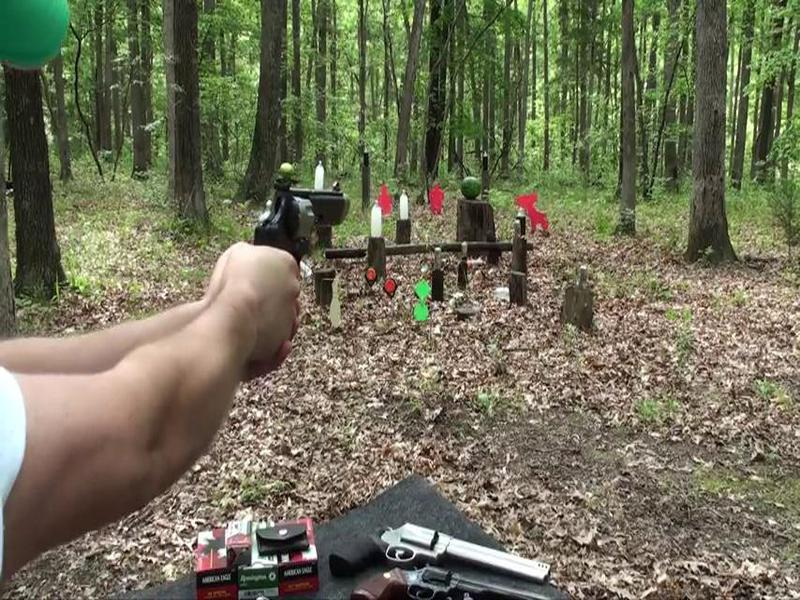Revolver: (238, 159, 369, 284)
